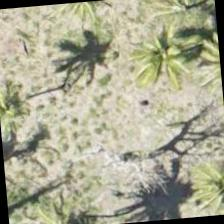Kelapa_Sawit: (114, 8, 212, 106), (0, 55, 63, 151), (148, 150, 223, 221)
